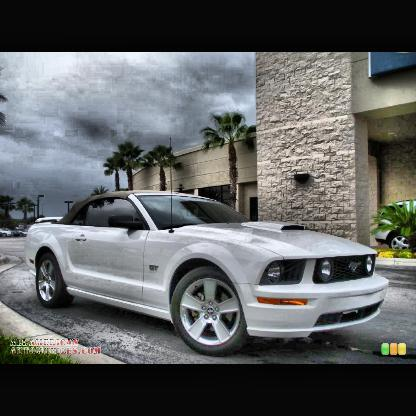Ford Mustang Convertible 2007: (23, 190, 392, 354)
